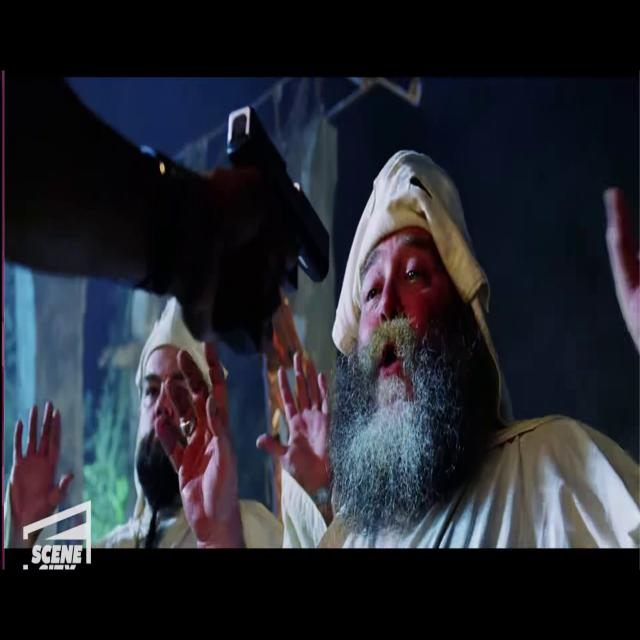weapons: (205, 95, 336, 344)
